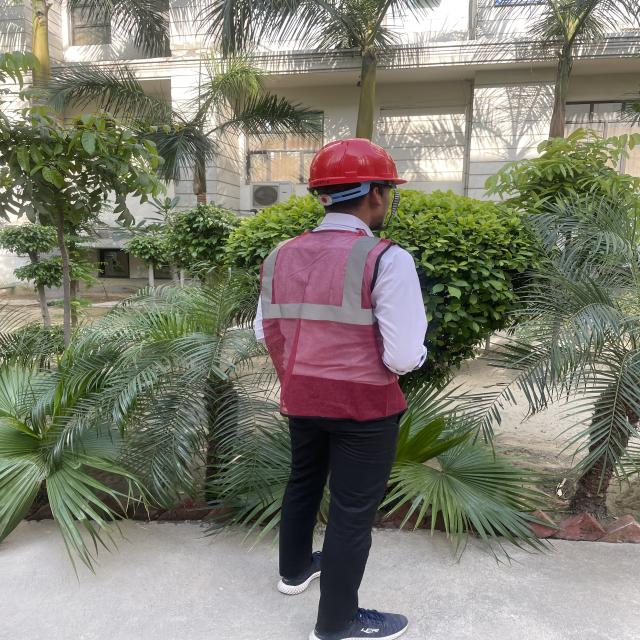safe: (257, 138, 426, 640)
